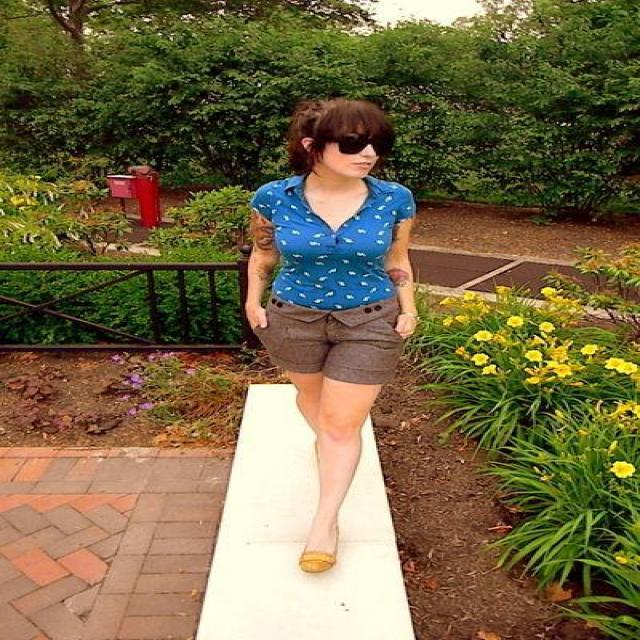shirt: (248, 175, 414, 307)
shoe: (274, 562, 322, 592)
shorts: (253, 294, 408, 384)
sunglass: (342, 127, 398, 157)
